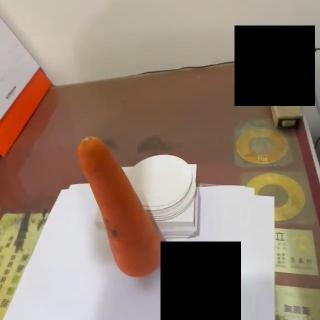carrot: (78, 134, 164, 280)
